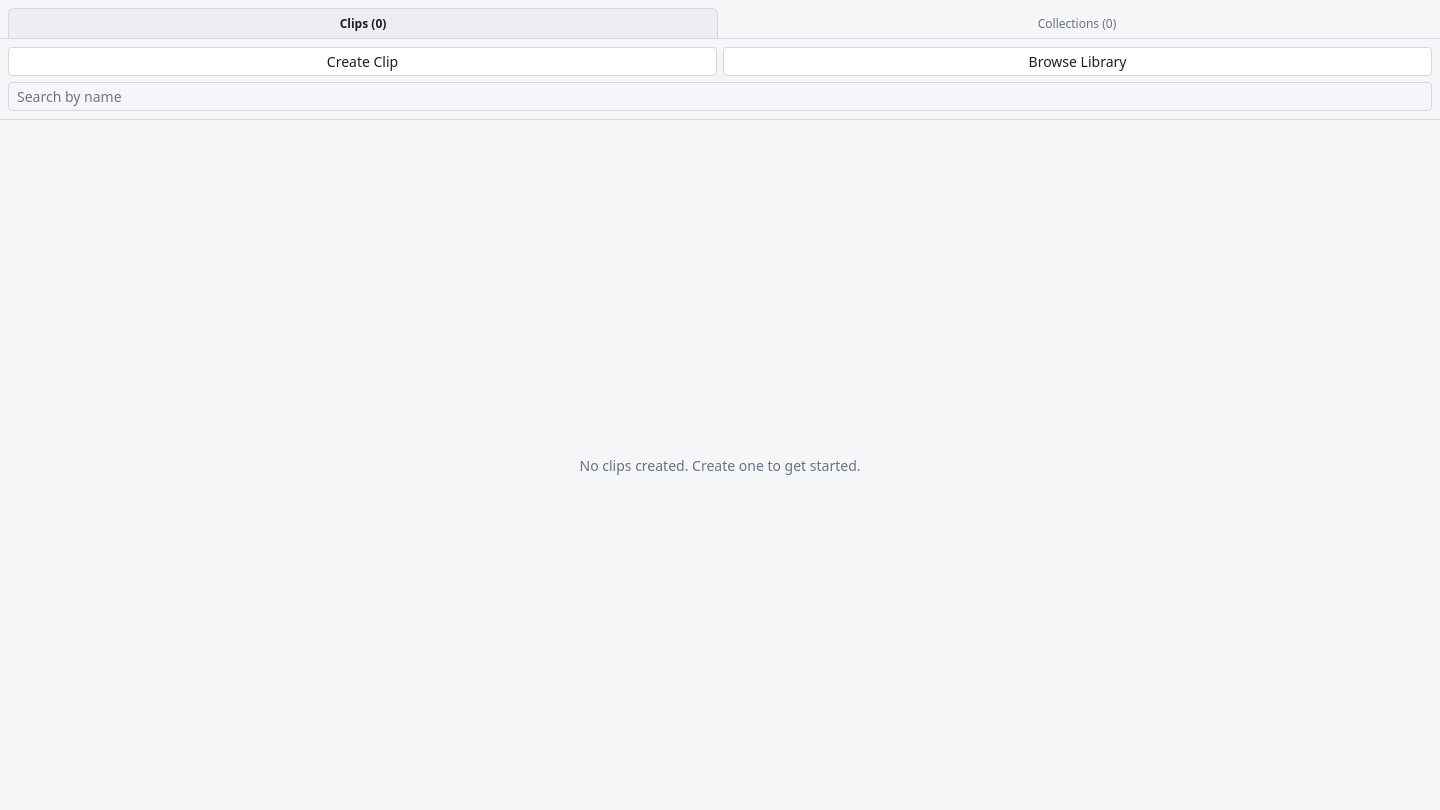
it: LibraryBrowser › Browse Library button › opens the library browser modal when Browse Library is clicked
This screenshot has width=1440, height=810.
Click the button with test id "clips-browse-button".
click(1078, 62)  # box [723, 47, 1432, 76]
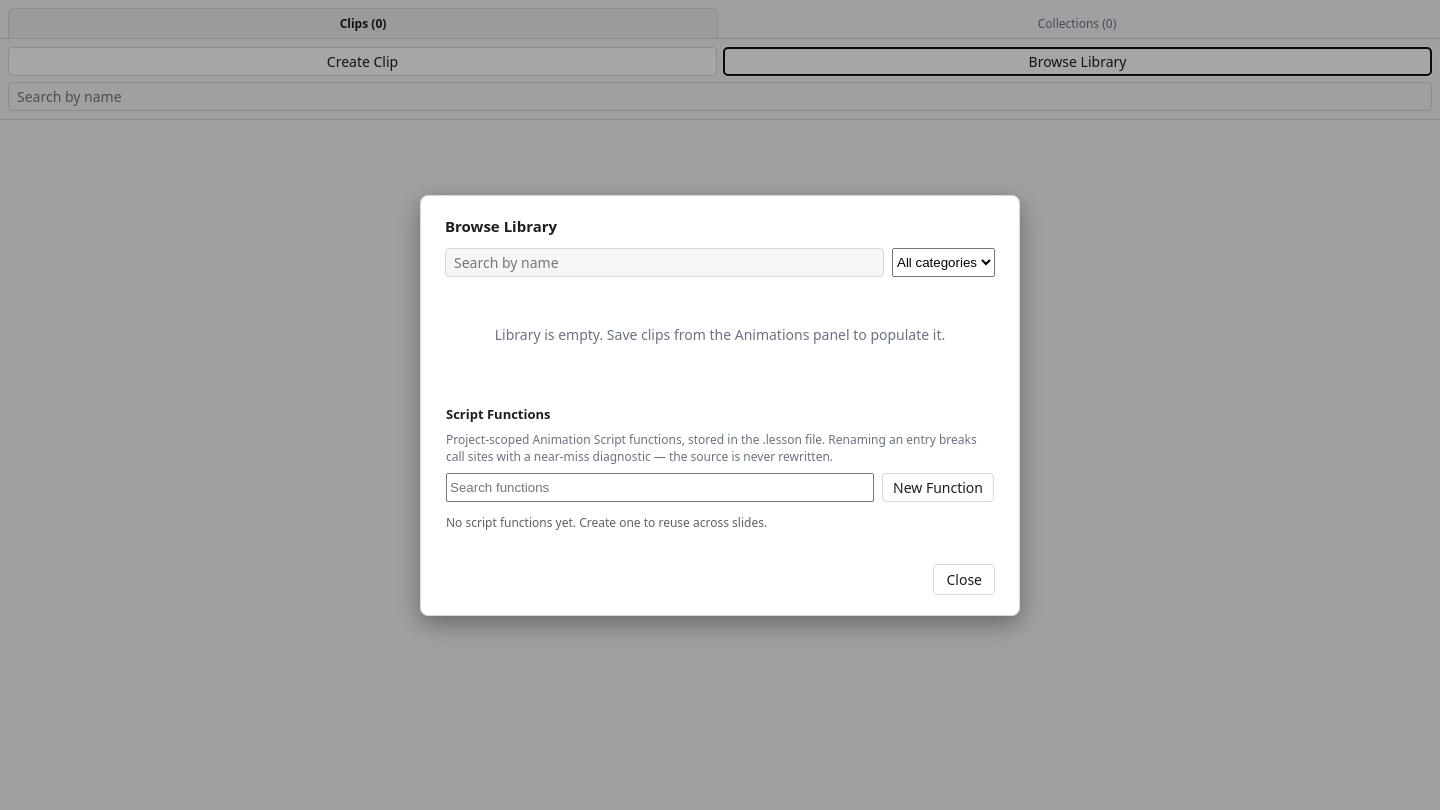
Check: the dialog "Browse Library" is shown, box [420, 194, 1020, 616]
